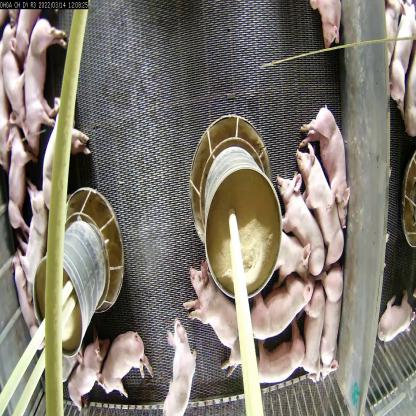Pig: (181, 264, 255, 384), (294, 99, 348, 230), (292, 144, 345, 276), (39, 95, 93, 223), (236, 266, 313, 340), (25, 7, 63, 150), (283, 166, 327, 282), (245, 316, 308, 382), (97, 328, 153, 402), (162, 308, 199, 415), (327, 254, 352, 399), (16, 176, 45, 288), (5, 119, 33, 231), (65, 342, 111, 406), (271, 225, 314, 292), (298, 273, 320, 380), (309, 0, 344, 57), (15, 264, 40, 341)
